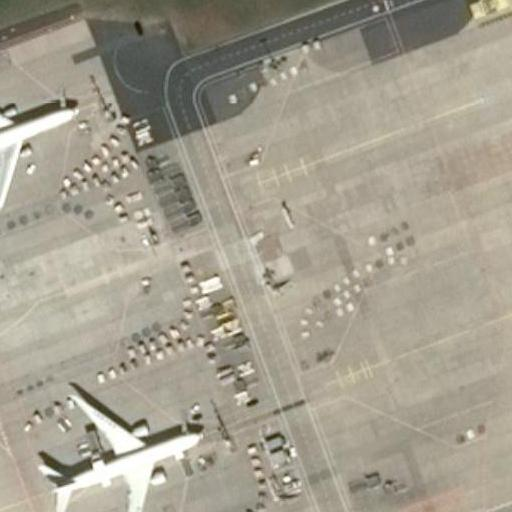Aircraft: (33, 387, 211, 512), (0, 73, 88, 214)
